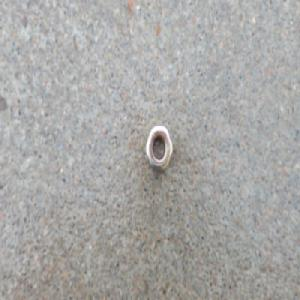Nut: (143, 124, 173, 173)
